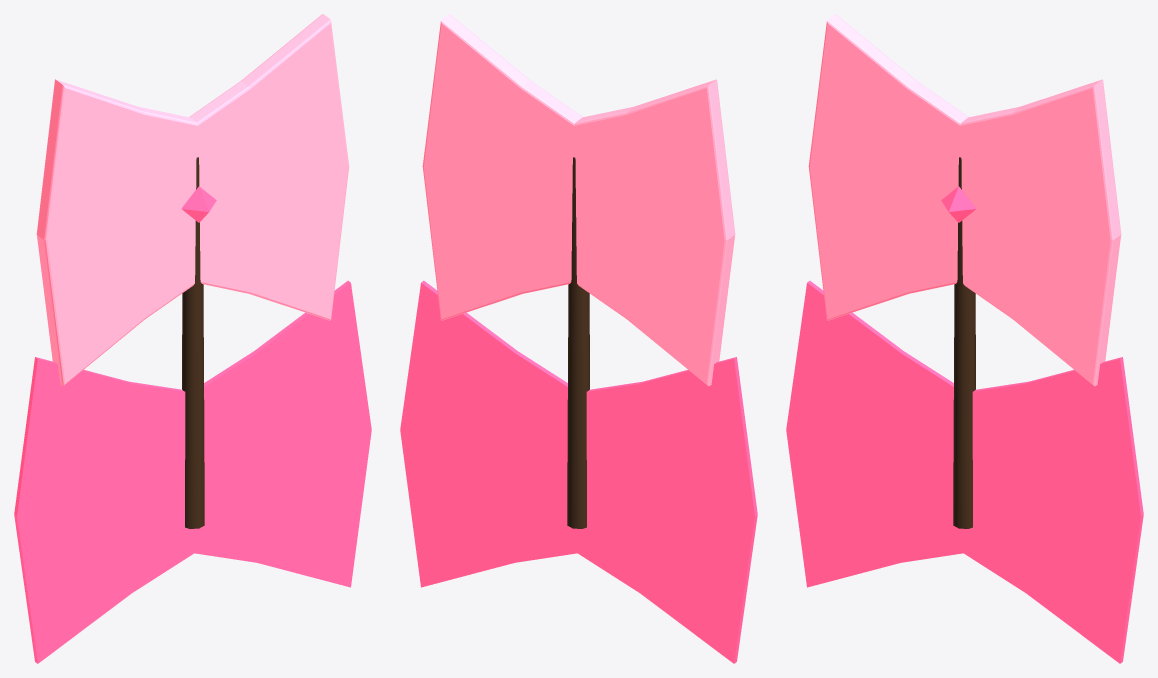
File: axe_f3_ab887231.glb
3 renders of one model, left to right at view 1: azimuth 30°, elevation 25°; view 2: azimuth 150°, elevation 25°; view 3: azimuth 330°, elevation 25°, orthographic.
Visible parts, largest first — view 1: m7_ow80_, m2_gm130_, m1_gm130_, m0_ow80_, m6_gm160_; view 2: m7_ow80_, m2_gm130_, m1_gm130_, m0_ow80_; view 3: m7_ow80_, m1_gm130_, m2_gm130_, m0_ow80_, m6_gm160_.
Boxes of the visible parts, x1,y1,x2,y2 form: m7_ow80_: [36, 14, 349, 386]; m2_gm130_: [14, 357, 194, 663]; m1_gm130_: [194, 280, 371, 587]; m0_ow80_: [182, 157, 204, 528]; m6_gm160_: [181, 186, 216, 222]; m7_ow80_: [422, 14, 735, 386]; m2_gm130_: [577, 357, 757, 663]; m1_gm130_: [400, 280, 577, 587]; m0_ow80_: [567, 157, 589, 528]; m7_ow80_: [808, 14, 1121, 386]; m1_gm130_: [963, 357, 1143, 663]; m2_gm130_: [786, 280, 963, 587]; m0_ow80_: [953, 157, 975, 528]; m6_gm160_: [941, 186, 976, 222].
Size of the model in its own units: 2.01 by 3.11 by 0.22.
